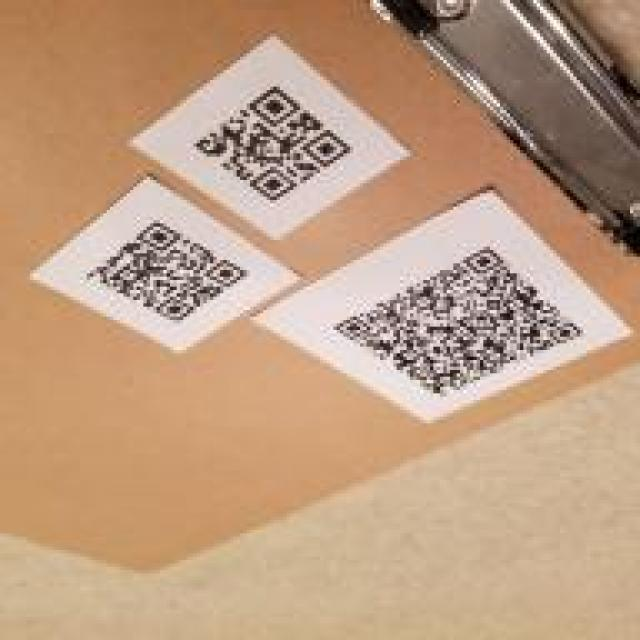qr_code: (332, 246, 583, 398), (194, 85, 353, 202), (85, 222, 249, 322)
